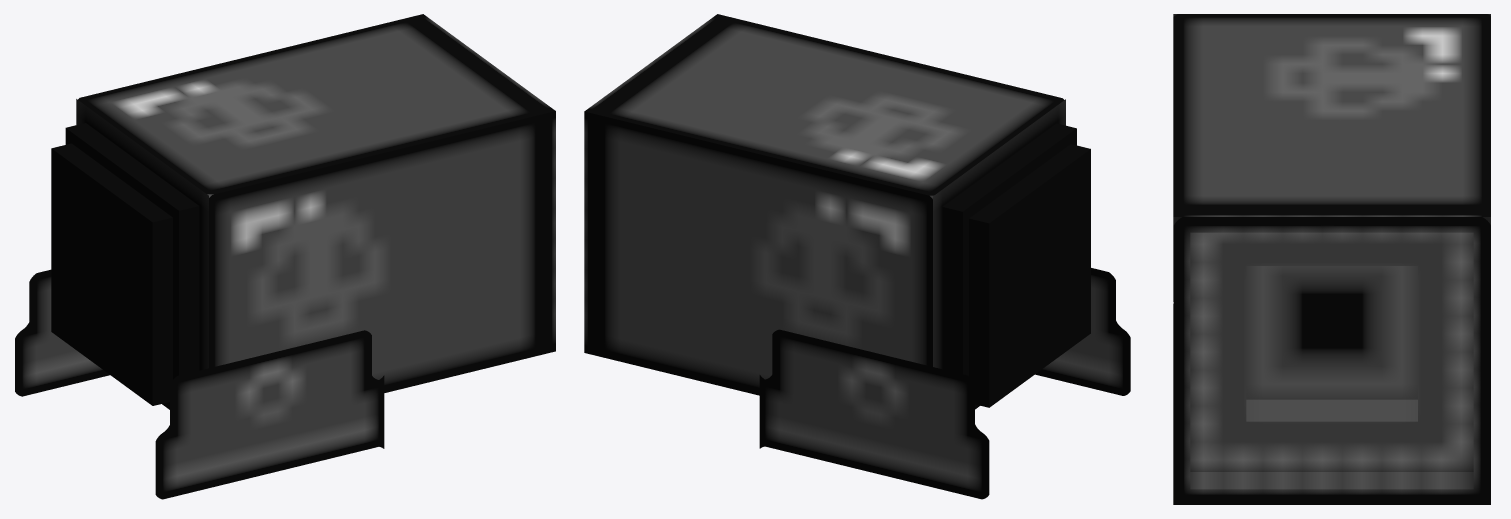
File: Boom.fbx
3 renders of one model, left to right at view 1: azimuth 30°, elevation 25°; view 2: azimuth 150°, elevation 25°; view 3: azimuth 270°, elevation 25°, orthographic. The views are drawn at different scales.
Visible parts, largest first — view 1: 立方体.029, 平面.018; view 2: 立方体.029, 平面.018; view 3: 立方体.029.
Boxes of the visible parts, x1,y1,x2,y2 form: 立方体.029: (51, 14, 555, 409); 平面.018: (15, 269, 384, 499); 立方体.029: (584, 14, 1090, 409); 平面.018: (759, 268, 1130, 499); 立方体.029: (1173, 14, 1490, 504).
Size of the model in its own units: 120 by 81.72 by 71.63.
